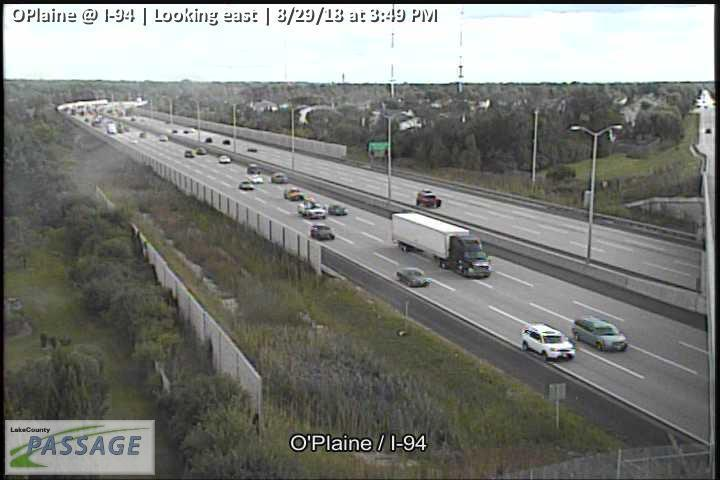Bus: (245, 164, 263, 183)
SUV: (520, 322, 575, 362), (574, 317, 627, 352), (416, 190, 440, 210)
Sedan: (397, 267, 428, 287), (311, 224, 335, 240), (284, 187, 303, 201), (328, 205, 347, 215), (271, 173, 287, 184), (239, 181, 252, 190), (217, 155, 230, 163), (197, 147, 205, 155), (159, 134, 166, 141), (184, 150, 192, 156), (204, 137, 212, 143), (248, 147, 256, 153), (223, 139, 230, 145)
Truck: (392, 211, 492, 279), (298, 197, 327, 220)
